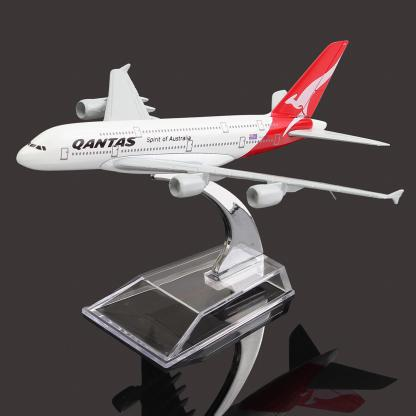CIV_Plane: (8, 37, 410, 214)
